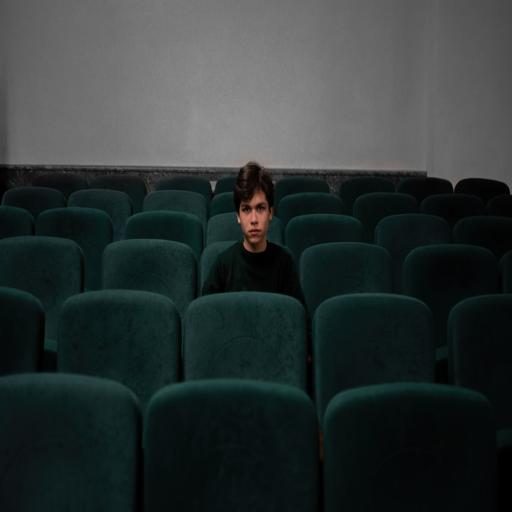face: (237, 194, 271, 245)
